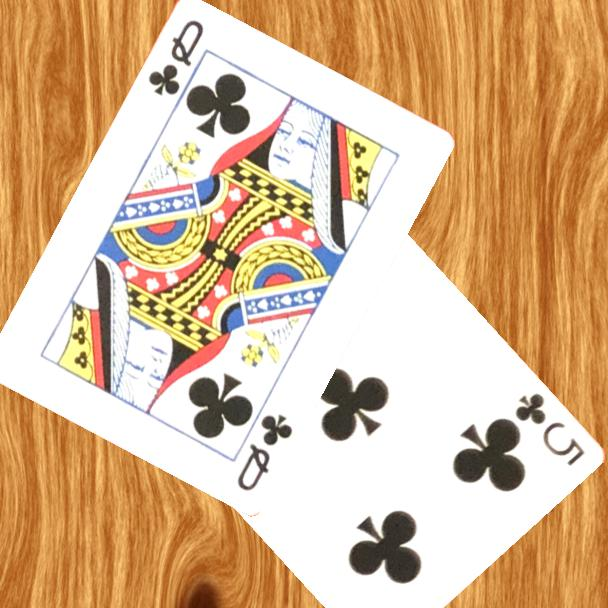c05: (510, 389, 587, 469)
c12: (233, 409, 295, 494), (144, 15, 207, 98)
